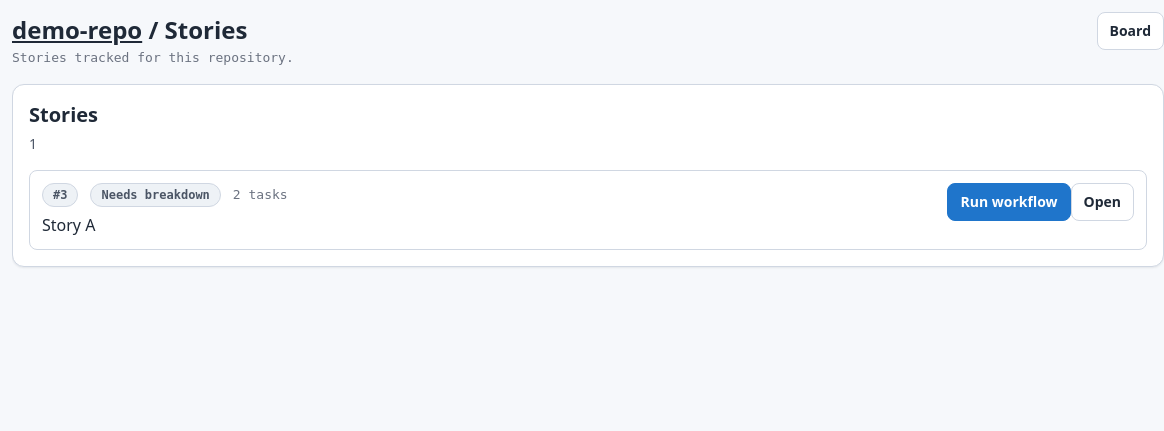
Test: StoriesIndexPageContent › replaces local child task state with the refreshed snapshot after a workflow conflict
Check: the list item "Story A" is shown, box 29,170 -> 1147,250
Check: the text "2 tasks" is shown, box 233,185 -> 288,204
Click the button "Run workflow" at (1009, 202), box 948,182 -> 1070,220
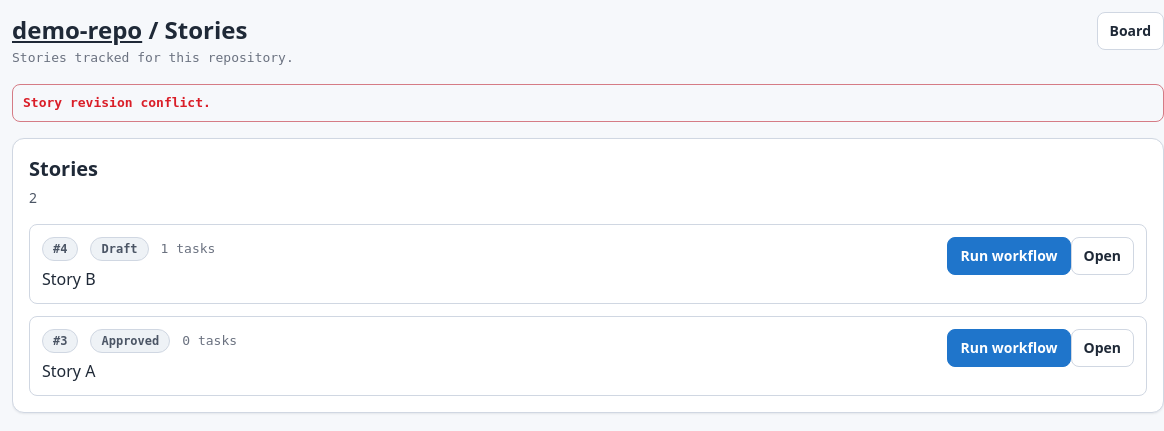
Check: the message reads "Story revision conflict.", box 23,94 -> 211,110
Check: the list item "Story B" is shown, box 29,224 -> 1147,304
Check: the text "0 tasks" is shown, box 182,331 -> 237,350
